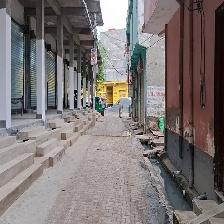Car: (89, 93, 107, 117)
Drain: (128, 115, 207, 213)
Human: (114, 99, 126, 121)
Road: (1, 113, 170, 223)
